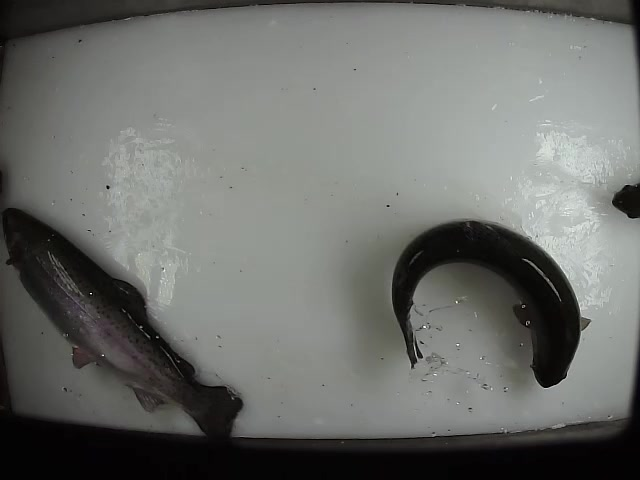fish: (1, 207, 244, 440), (389, 215, 593, 389)
